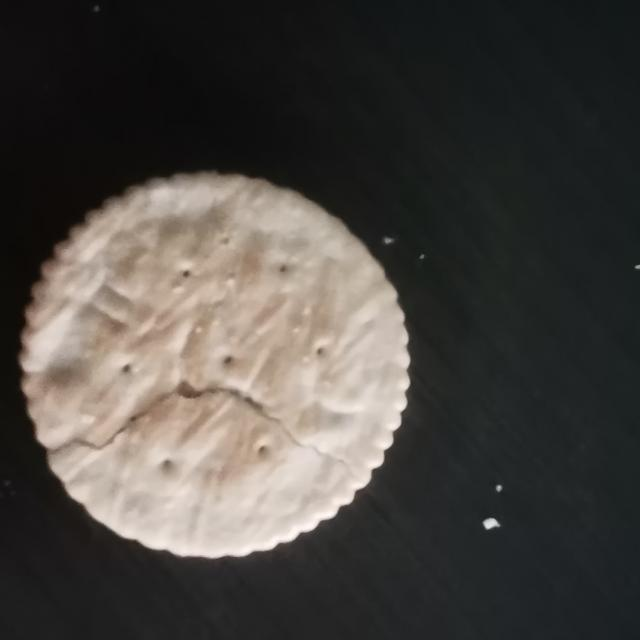Fracture: (38, 378, 377, 501)
